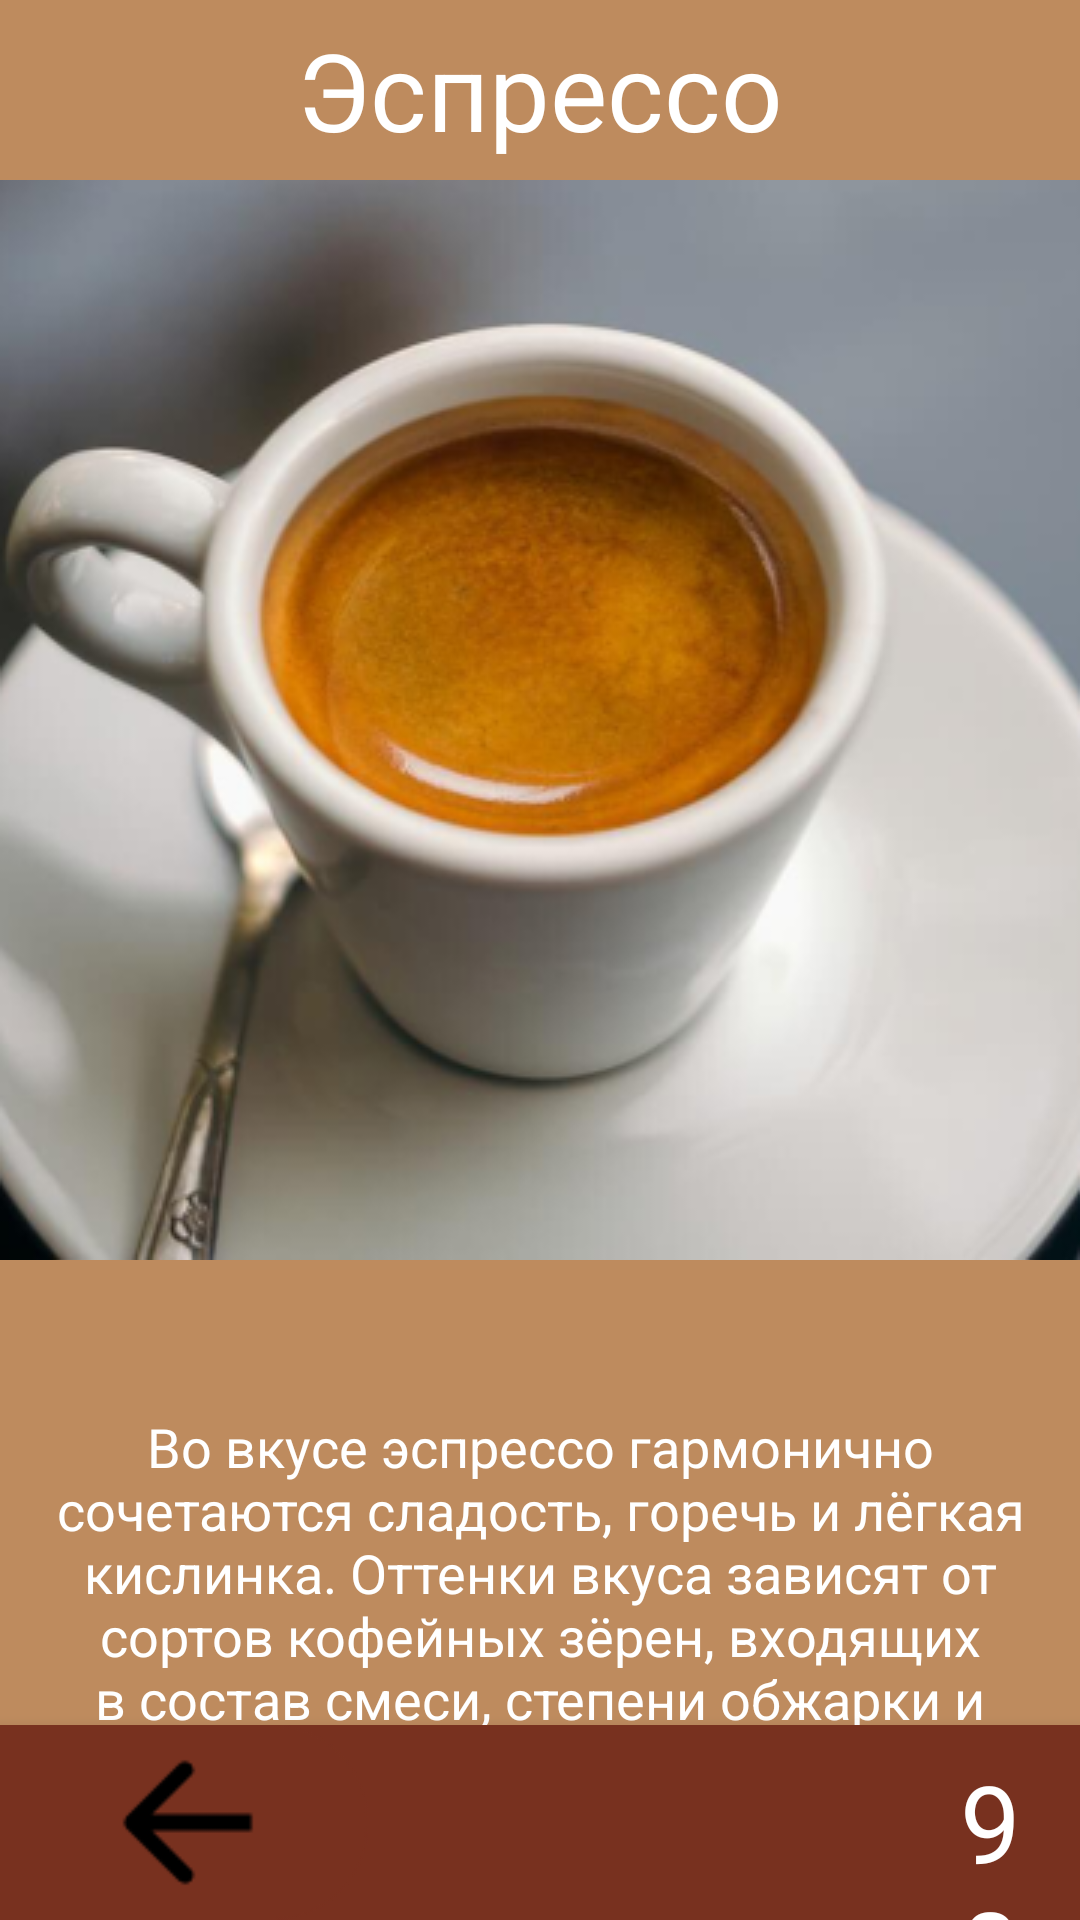

Locate icon controls on the screen. Image size 1080×1920, boxes as box=[x1, y1, x2, y2].
backback: box=[123, 1760, 253, 1885]
